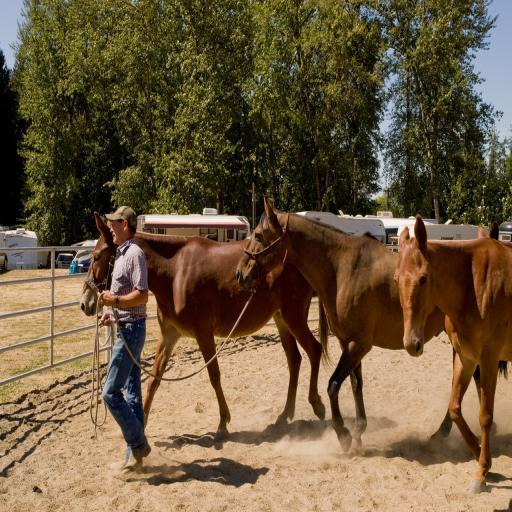horse: (234, 194, 508, 454), (79, 210, 337, 446), (394, 213, 511, 495)
